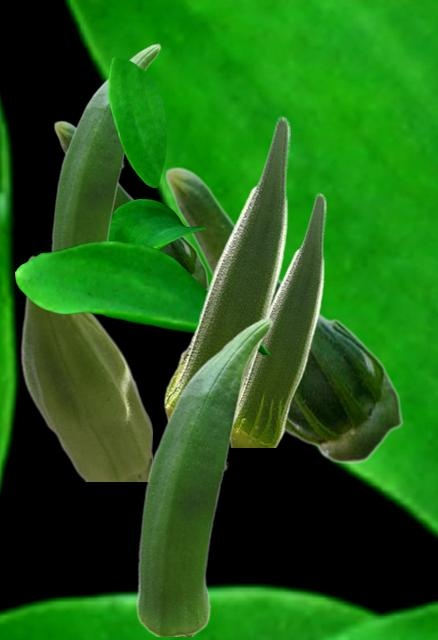okra: (164, 166, 402, 463), (135, 317, 272, 635), (163, 115, 289, 422), (20, 252, 151, 480), (53, 120, 208, 288), (230, 192, 325, 446), (49, 43, 160, 250)
